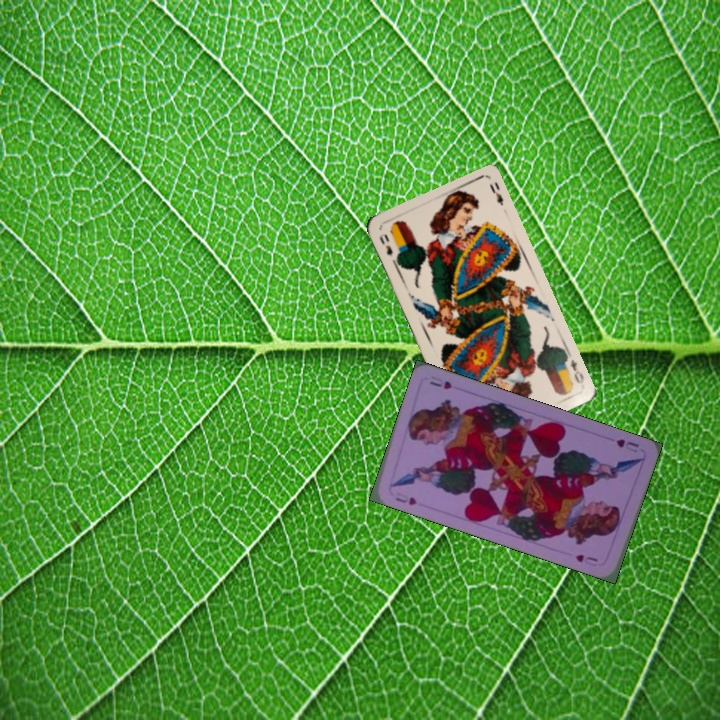EO: (375, 230, 401, 265), (566, 355, 587, 387)
HU: (391, 486, 420, 508), (612, 435, 641, 455)
